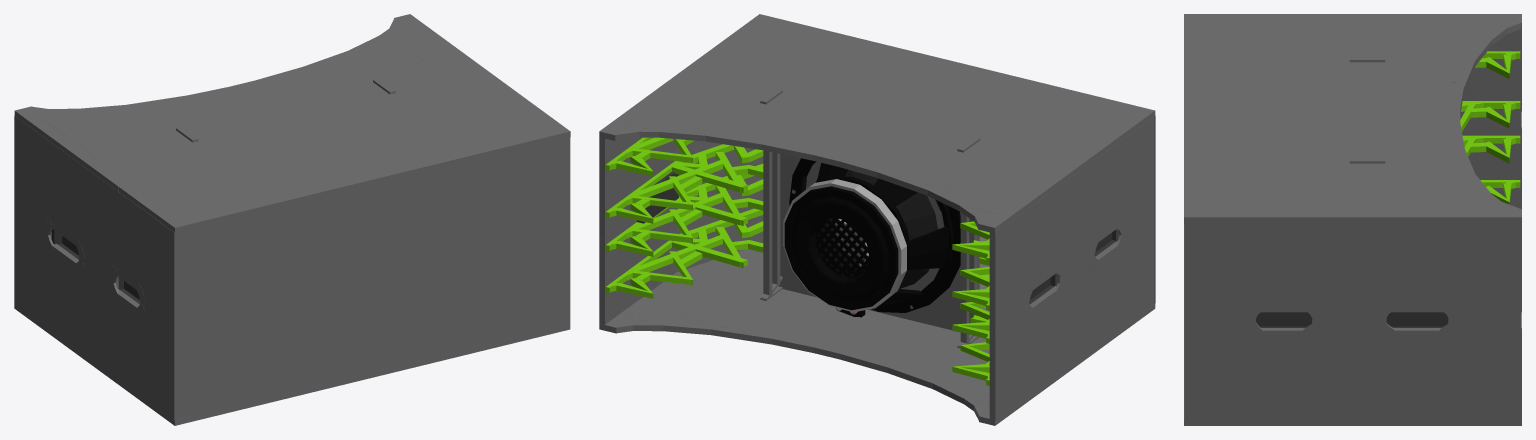
Rendered from box-venom-gen2.glb.
3 renders of one model, left to right at view 1: azimuth 30°, elevation 25°; view 2: azimuth 150°, elevation 25°; view 3: azimuth 270°, elevation 25°, orthographic. The views are drawn at different scales.
Visible parts, largest first — view 1: New_Game_Object, New_Game_Object_node_10, New_Game_Object_node_56, New_Game_Object_node_42; view 2: New_Game_Object_node_10, New_Game_Object_node_56, New_Game_Object_node_42, New_Game_Object_node_49, New_Game_Object_node_12, New_Game_Object_node_45, New_Game_Object_node_11, New_Game_Object_node, New_Game_Object_node_29, New_Game_Object_node_9, New_Game_Object_node_46, New_Game_Object_node_40 (+6 smaller); view 3: New_Game_Object_node_12, New_Game_Object_node_10, New_Game_Object_node_56, New_Game_Object_node_42, New_Game_Object_node_44, New_Game_Object_node_43, New_Game_Object_node_25, New_Game_Object_node_26, New_Game_Object_node_48, New_Game_Object_node_47, New_Game_Object.
Part boxes in pixels (<box>): New_Game_Object: <box>173,137,570,420</box>; New_Game_Object_node_10: <box>14,14,570,233</box>; New_Game_Object_node_56: <box>14,115,172,418</box>; New_Game_Object_node_42: <box>14,303,570,425</box>; New_Game_Object_node_10: <box>599,14,1155,233</box>; New_Game_Object_node_56: <box>989,117,1154,420</box>; New_Game_Object_node_42: <box>599,243,1155,425</box>; New_Game_Object_node_49: <box>783,158,960,317</box>; New_Game_Object_node_12: <box>599,137,676,324</box>; New_Game_Object_node_45: <box>605,208,763,298</box>; New_Game_Object_node_11: <box>605,144,763,223</box>; New_Game_Object_node: <box>779,154,960,332</box>; New_Game_Object_node_29: <box>605,163,763,256</box>; New_Game_Object_node_9: <box>676,140,763,272</box>; New_Game_Object_node_46: <box>605,137,694,176</box>; New_Game_Object_node_40: <box>763,150,772,295</box>; New_Game_Object_node_12: <box>1185,222,1521,420</box>; New_Game_Object_node_10: <box>1184,14,1521,223</box>; New_Game_Object_node_56: <box>1460,29,1521,209</box>; New_Game_Object_node_42: <box>1184,223,1521,425</box>; New_Game_Object_node_44: <box>1460,101,1520,131</box>; New_Game_Object_node_43: <box>1462,135,1520,163</box>; New_Game_Object_node_25: <box>1386,312,1448,327</box>; New_Game_Object_node_26: <box>1256,312,1312,327</box>; New_Game_Object_node_48: <box>1475,51,1520,78</box>; New_Game_Object_node_47: <box>1480,180,1520,204</box>; New_Game_Object: <box>1184,223,1186,419</box>.
Bounding box in the file's own units: 9.3 × 4.58 × 6.52.
